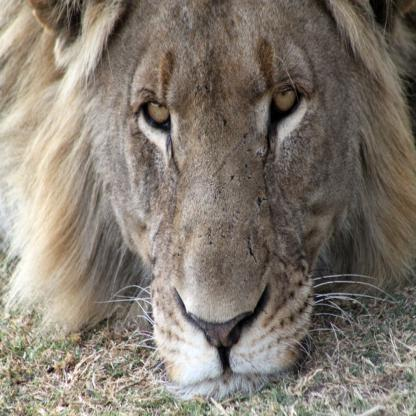lion: (57, 0, 383, 386)
